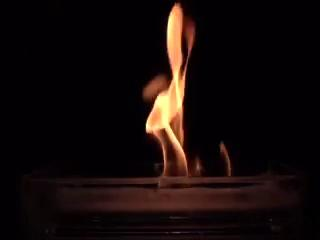Fire: (143, 4, 234, 178)
